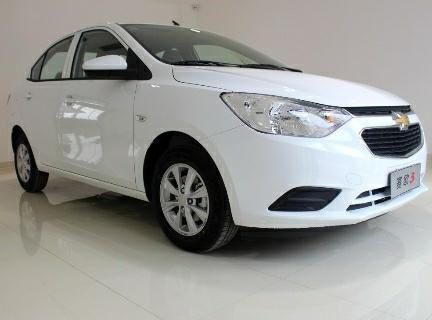car: (0, 15, 430, 258)
